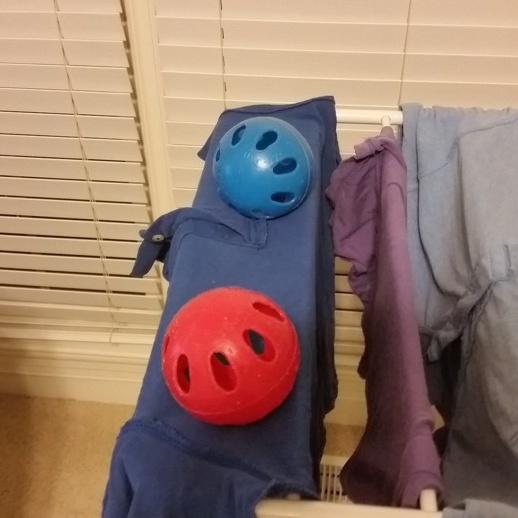ball: (157, 282, 306, 430), (207, 112, 322, 225)
